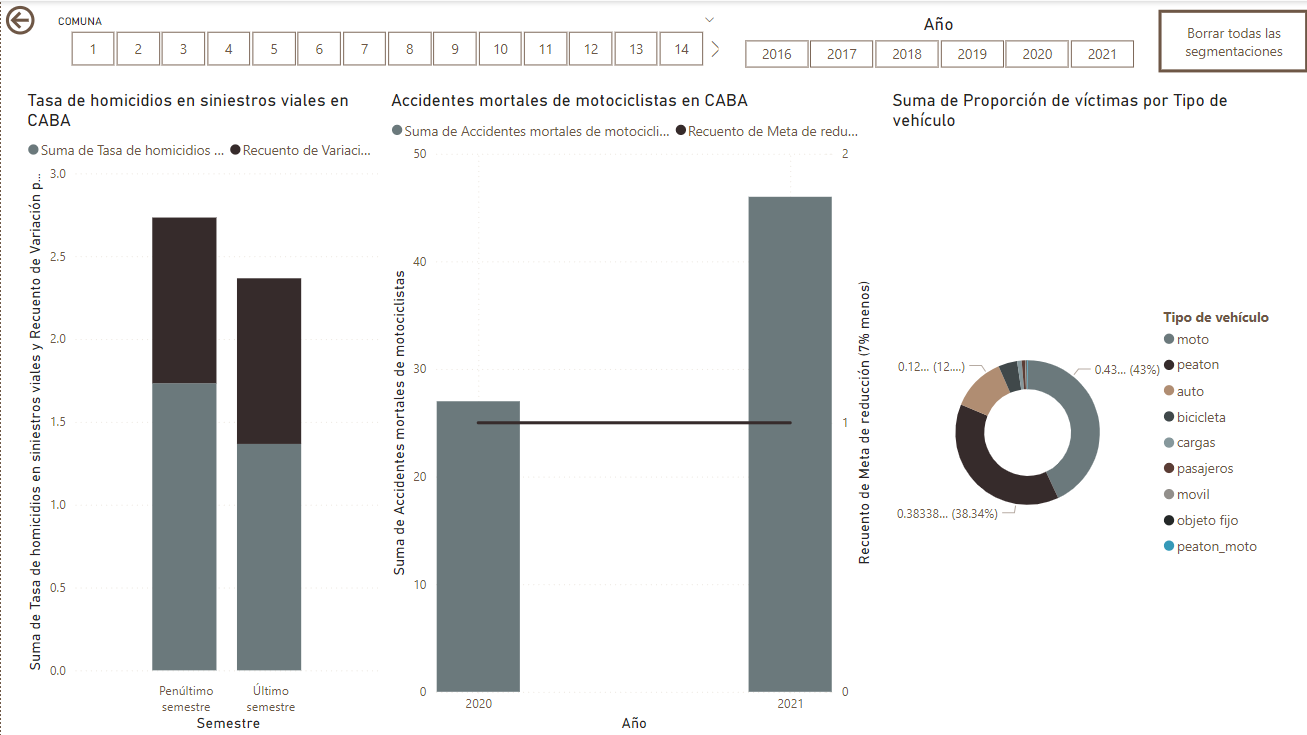

Layout of this report page (visuals, bound fields, positions):
{"tool":"powerbi","page":{"name":"KPI´s","canvas":[1280,720],"ordinal":4},"visuals":[{"type":"lineStackedColumnComboChart","title":"Tasa de homicidios en siniestros viales en CABA","fields":{"Category":["kpi1.Semestre"],"Y":["Sum(kpi1.Tasa de homicidios en siniestros viales)","CountNonNull(kpi1.Variación porcentual)"]},"box":[20.9,87.4,356.1,632.7],"z":0},{"type":"slicer","fields":{"Values":["Hechos.COMUNA"]},"box":[43,9.1,667.9,61.3],"z":1},{"type":"slicer","title":"Año","fields":{"Values":["Victimas.AAAA"]},"box":[701.8,11.7,430.5,58.7],"z":2},{"type":"actionButton","box":[0,0,43.4,37.6],"z":6},{"type":"actionButton","box":[1132.3,9.1,147.4,61.3],"z":7},{"type":"lineStackedColumnComboChart","title":"Accidentes mortales de motociclistas en CABA","fields":{"Category":["kpi2.Año"],"Y":["Sum(kpi2.Accidentes mortales de motociclistas)"],"Y2":["CountNonNull(kpi2.Meta de reducción (7% menos))"]},"box":[377,87.4,480.1,632.7],"z":8},{"type":"donutChart","fields":{"Y":["Sum(kpi3.Proporción de víctimas)"],"Category":["kpi3.Tipo de vehículo"]},"box":[867.5,87.4,394,632.7],"z":9}]}

Visuals, with their boxes in screenshot pixels (x1, y1, x2, y2), scaled from the page's 1280x720 canvas onto the 1307x735 screenshot:
"Tasa de homicidios en siniestros viales en CABA" lineStackedColumnComboChart: Rect(21, 89, 385, 734)
slicer - Hechos.COMUNA: Rect(44, 9, 726, 72)
"Año" slicer: Rect(717, 12, 1156, 72)
actionButton: Rect(0, 0, 44, 38)
actionButton: Rect(1156, 9, 1306, 72)
"Accidentes mortales de motociclistas en CABA" lineStackedColumnComboChart: Rect(385, 89, 875, 734)
donutChart - Sum(kpi3.Proporción de víctimas) x kpi3.Tipo de vehículo: Rect(886, 89, 1288, 734)
